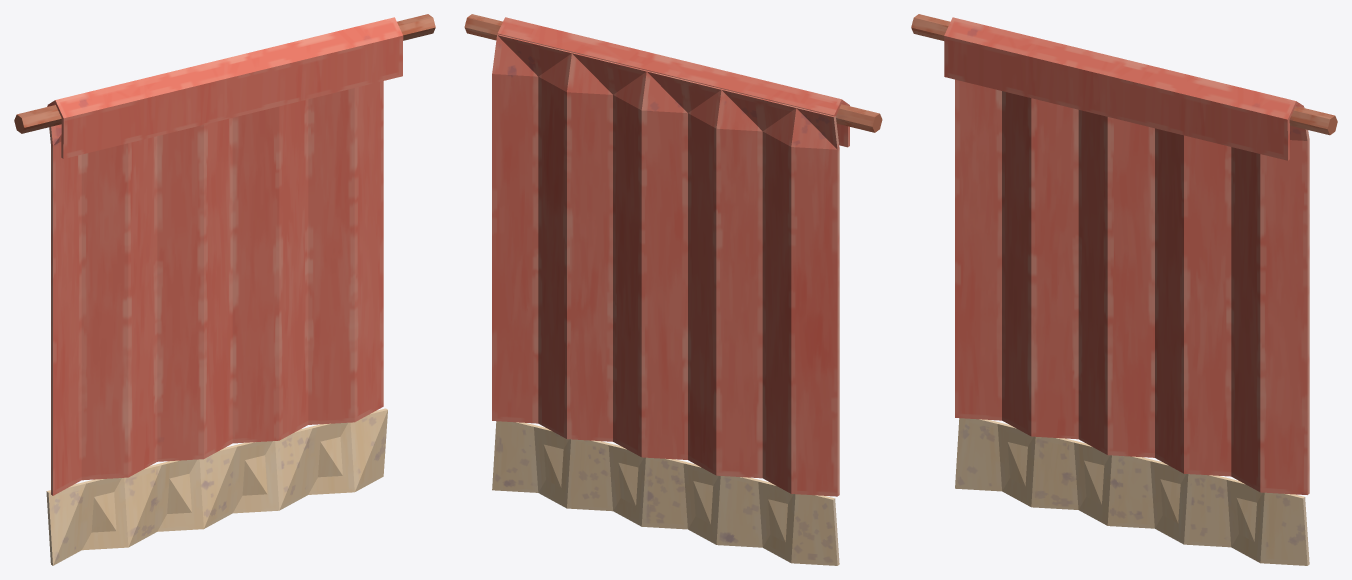
File: cloth_low.fbx
3 views of the same model, side by side, from view 1: azimuth 30°, elevation 25°; view 2: azimuth 150°, elevation 25°; view 3: azimuth 330°, elevation 25° (orthographic). The views are drawn at different scales.
Visible parts, largest first — view 1: cloth; view 2: cloth; view 3: cloth.
Part boxes in pixels (left/top/right/bottom): cloth: left=14, top=14, right=435, bottom=565; cloth: left=464, top=14, right=882, bottom=565; cloth: left=911, top=14, right=1337, bottom=565.
Bounding box in the file's own units: 8 × 8.68 × 0.7289.
1 material, 1 textured.
